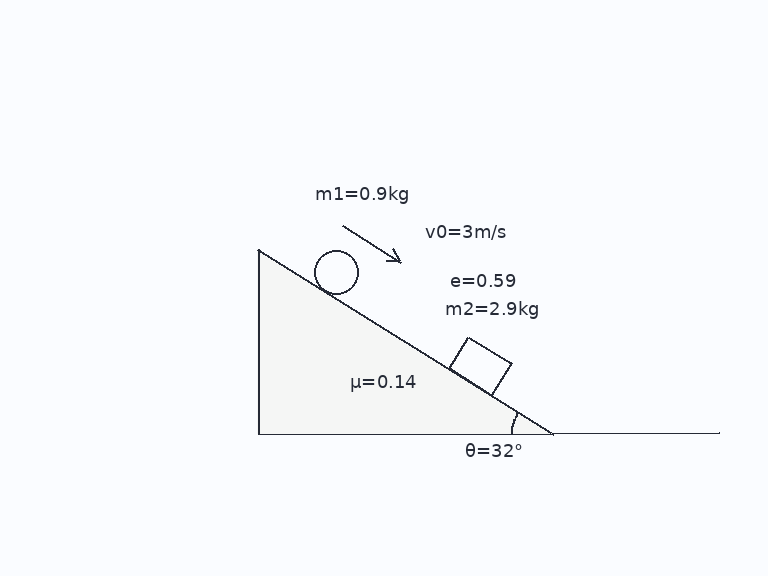ball: (312, 248, 360, 296)
block: (446, 334, 513, 397)
ramp: (256, 247, 554, 435)
